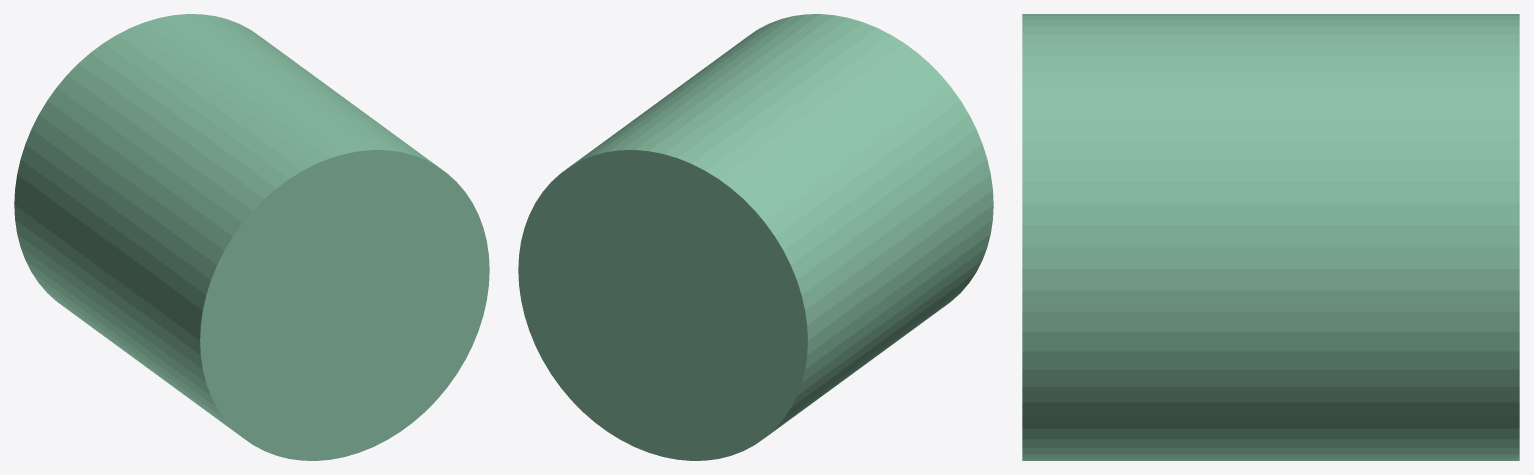
3 views of the same model, side by side, from view 1: azimuth 30°, elevation 25°; view 2: azimuth 150°, elevation 25°; view 3: azimuth 270°, elevation 25° (orthographic). The views are drawn at different scales.
Parts seen in each view (by area): view 1: geometry_0; view 2: geometry_0; view 3: geometry_0.
Boxes of the visible parts, x1,y1,x2,y2 form: geometry_0: (14, 14, 489, 460); geometry_0: (518, 14, 993, 460); geometry_0: (1022, 14, 1519, 460).
Size of the model in its own units: 0.54 by 0.54 by 0.6.
